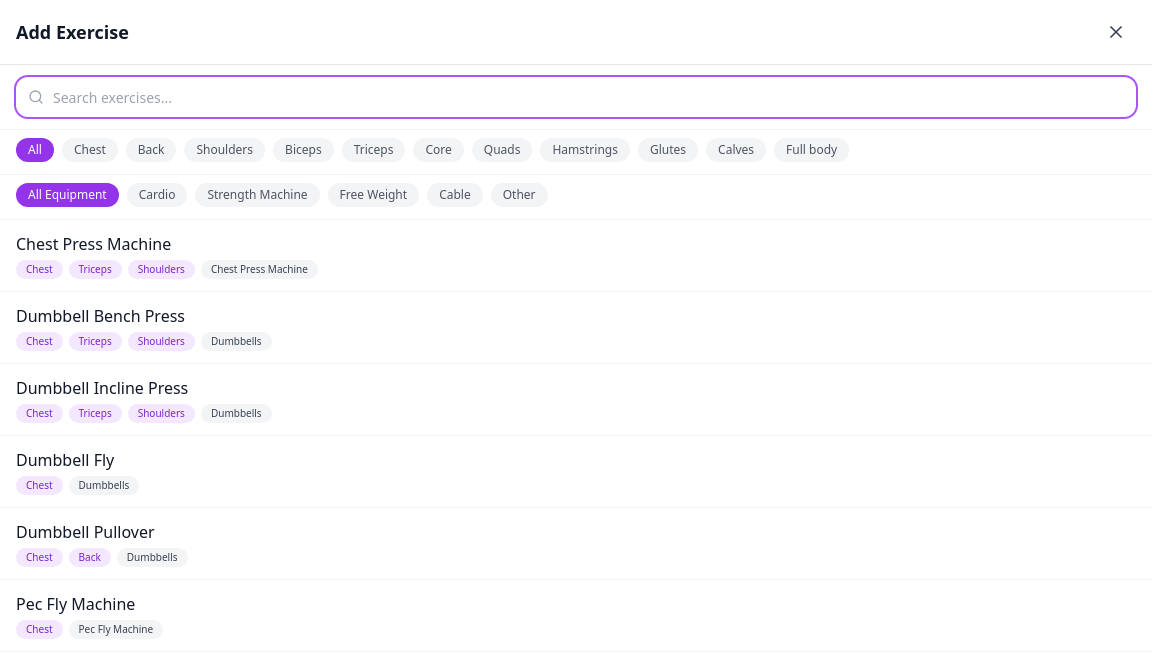
Test: ExercisePicker — equipment-category chip filter › filters by equipment category (cardio)
Click the button "Cardio" at (157, 195), box [127, 183, 188, 207]
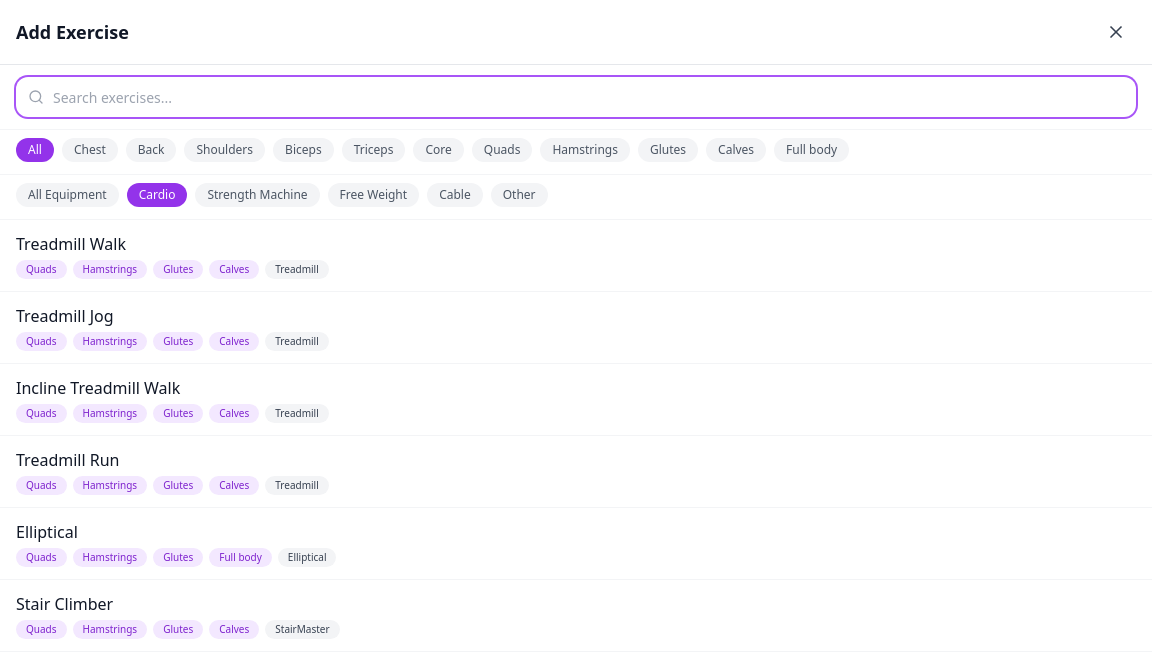
Expected: the text "Treadmill Walk" is shown, [16, 232, 126, 256]
